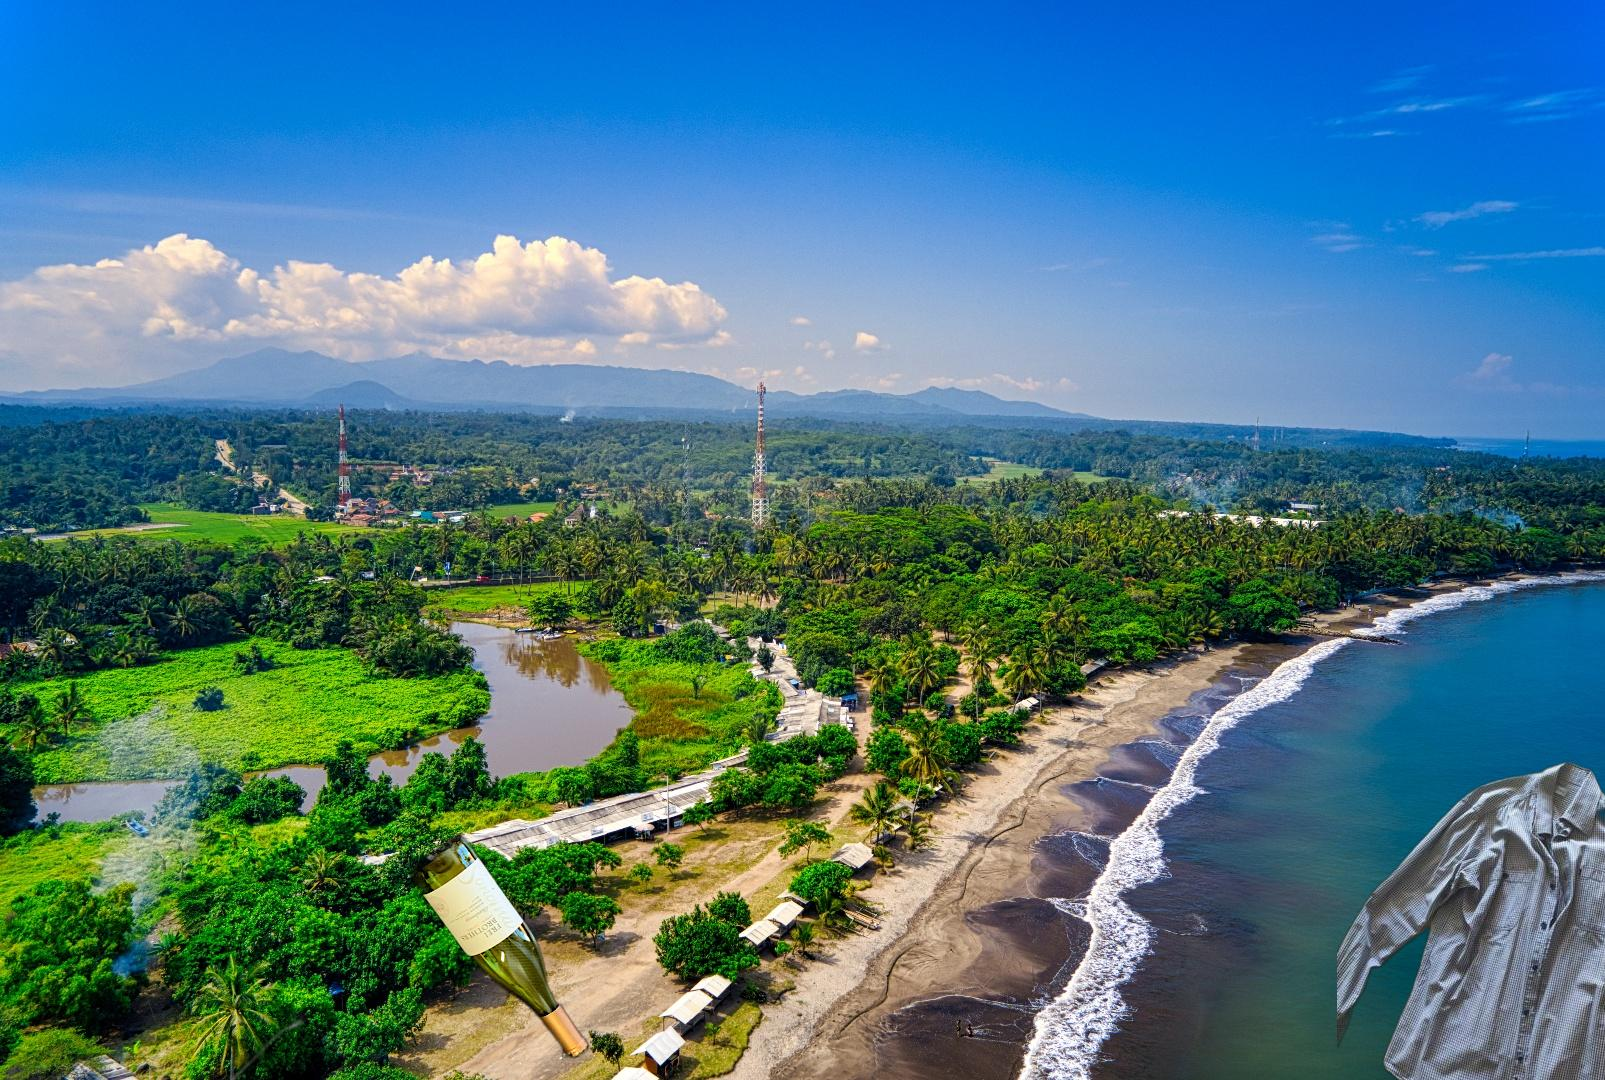battery: (8, 1012, 513, 1080)
clothes: (1337, 758, 1605, 1080)
glass: (406, 827, 593, 1064)
